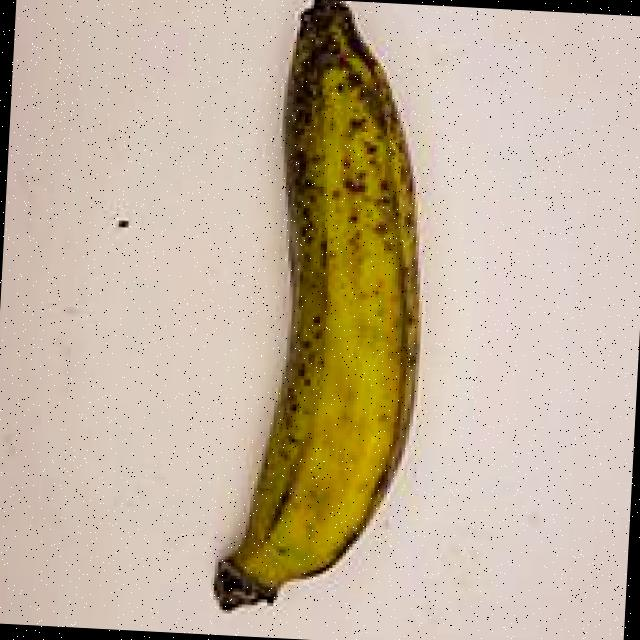Overripe: (129, 0, 497, 635)
